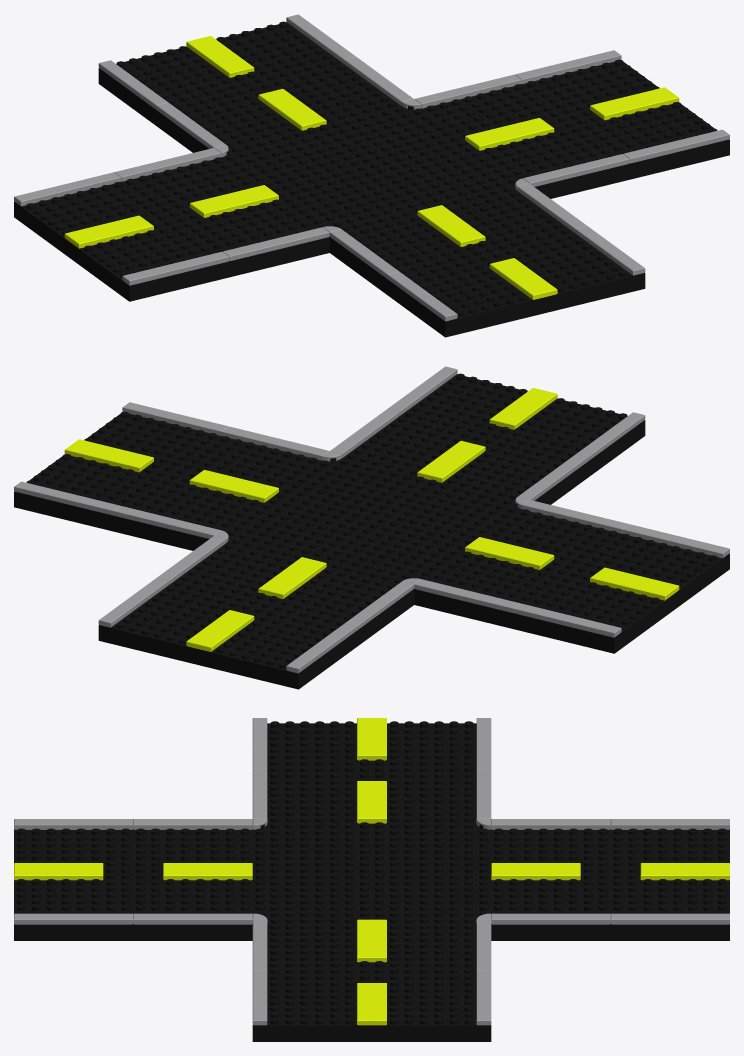
The model's file is Crossroads.fbx.
The picture shows the model from 3 angles, top to bottom: view 1: azimuth 30°, elevation 25°; view 2: azimuth 150°, elevation 25°; view 3: azimuth 270°, elevation 25°; orthographic projection. The views are drawn at different scales.
Parts seen in each view (by area): view 1: part.018, part.001, part.009, part.010, part.008, part, part.027, part.019, part.026, part.011, part.025, part.016 (+22 smaller); view 2: part.019, part.027, part.008, part.011, part.009, part.026, part.001, part.018, part, part.010, part.025, part.016 (+22 smaller); view 3: part, part.026, part.008, part.009, part.010, part.011, part.018, part.019, part.001, part.027, part.006, part.007 (+22 smaller).
Part boxes in pixels (x1,y1,x2,y2): part.018: (71,199,329,301); part.001: (329,215,545,337); part.009: (220,106,470,193); part.010: (473,102,729,198); part.008: (277,145,517,237); part: (447,191,645,312); part.027: (98,46,306,152); part.019: (14,157,258,258); part.026: (216,21,402,128); part.011: (421,59,659,145); part.025: (64,215,153,248); part.016: (590,87,679,120); part.019: (414,551,672,653); part.027: (198,567,414,689); part.008: (273,458,523,545); part.011: (14,454,270,550); part.009: (226,497,466,589); part.026: (98,543,296,664); part.001: (437,398,645,504); part.018: (485,509,729,610); part: (341,373,527,480); part.010: (84,411,322,497); part.025: (590,567,679,600); part.016: (64,439,153,472); part: (14,872,252,940); part.026: (491,872,729,940); part.008: (252,822,371,924); part.009: (372,822,491,924); part.010: (252,923,371,1041); part.011: (372,923,491,1041); part.018: (267,721,371,823); part.019: (372,721,476,823); part.001: (14,828,252,874); part.027: (491,828,729,874); part.006: (163,863,252,880); part.007: (14,863,103,880).
Bounding box in the file's own units: 38392 × 1276 × 38392.
